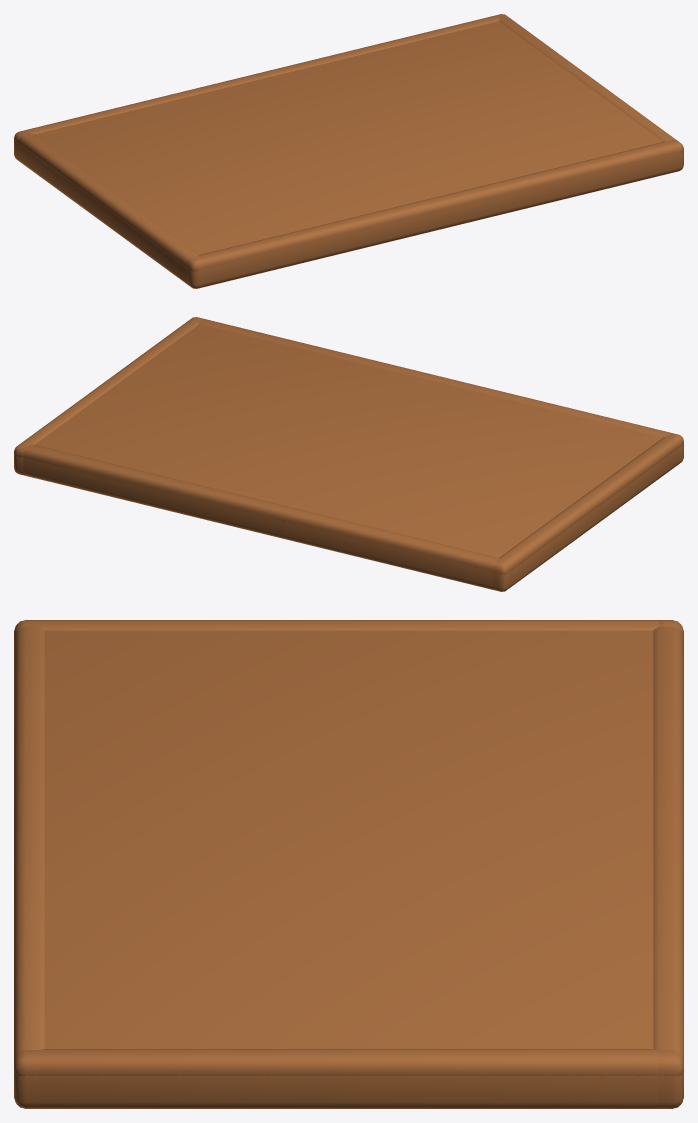
File: StatementFrame.fbx
The picture shows the model from 3 angles, top to bottom: view 1: azimuth 30°, elevation 25°; view 2: azimuth 150°, elevation 25°; view 3: azimuth 270°, elevation 25°; orthographic projection. The views are drawn at different scales.
Visible parts, largest first — view 1: StatementFrame; view 2: StatementFrame; view 3: StatementFrame.
Boxes of the visible parts, bbox=[...] form: StatementFrame: bbox=[14, 14, 683, 288]; StatementFrame: bbox=[14, 317, 683, 591]; StatementFrame: bbox=[14, 620, 683, 1108].
Size of the model in its own units: 1.35 by 0.079 by 0.86.
